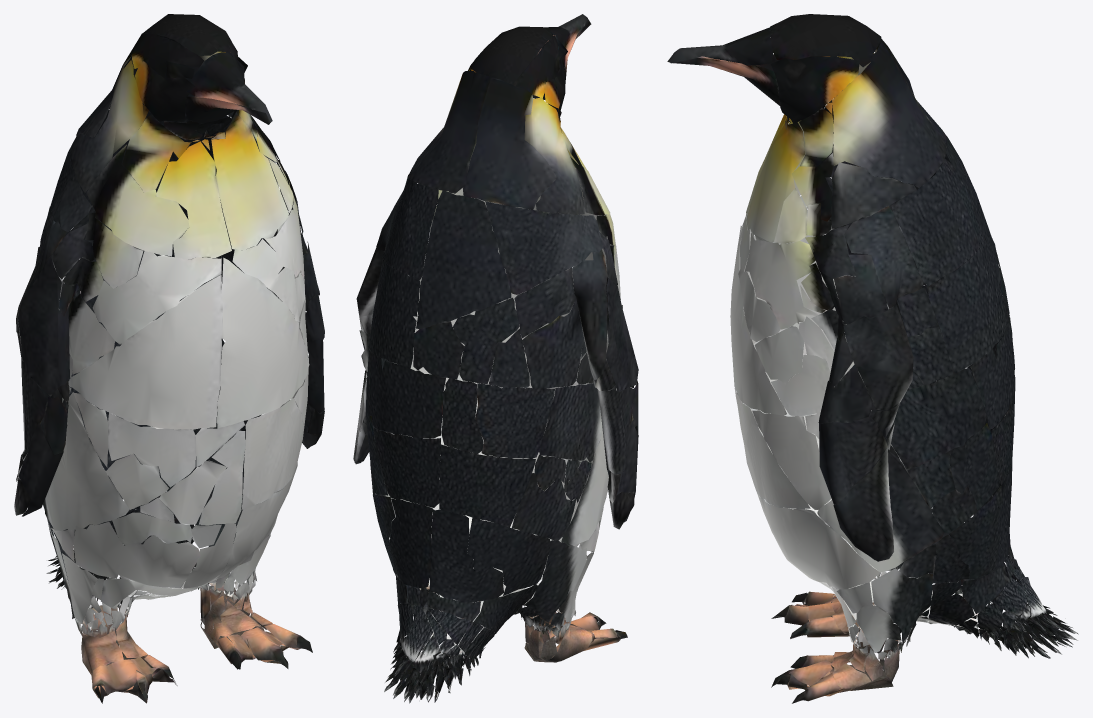
Rendered from penguin.glb.
3 renders of one model, left to right at view 1: azimuth 30°, elevation 25°; view 2: azimuth 150°, elevation 25°; view 3: azimuth 270°, elevation 25°, orthographic. The views are drawn at different scales.
Visible parts, largest first — view 1: Mesh_0; view 2: Mesh_0; view 3: Mesh_0.
Boxes of the visible parts, x1=… form: Mesh_0: x1=14, y1=14, x2=324, y2=703; Mesh_0: x1=353, y1=14, x2=638, y2=703; Mesh_0: x1=667, y1=14, x2=1078, y2=703.
Size of the model in its own units: 0.8942 by 1.91 by 1.11.
1 material, 1 textured.
